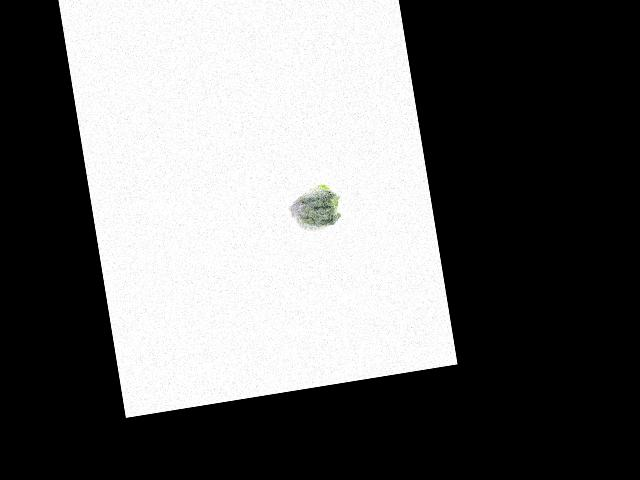lettuce: (285, 179, 344, 236)
